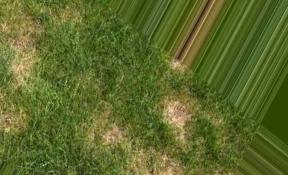patch: (1, 24, 50, 85), (141, 143, 182, 171), (162, 99, 192, 135), (97, 126, 132, 148)
